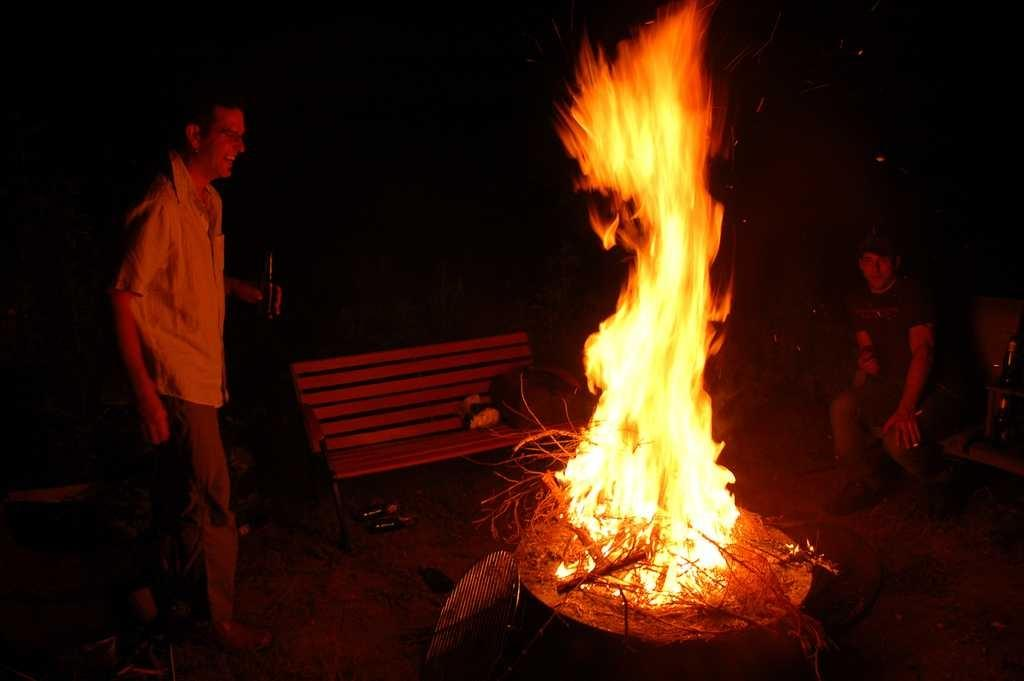fire: (620, 388, 697, 527), (640, 198, 697, 365), (607, 70, 697, 173)
